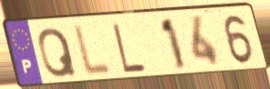1: (160, 16, 189, 71)
4: (190, 12, 222, 72)
6: (222, 13, 256, 66)
L: (72, 23, 114, 79), (110, 21, 149, 74)
Q: (36, 26, 79, 80)
